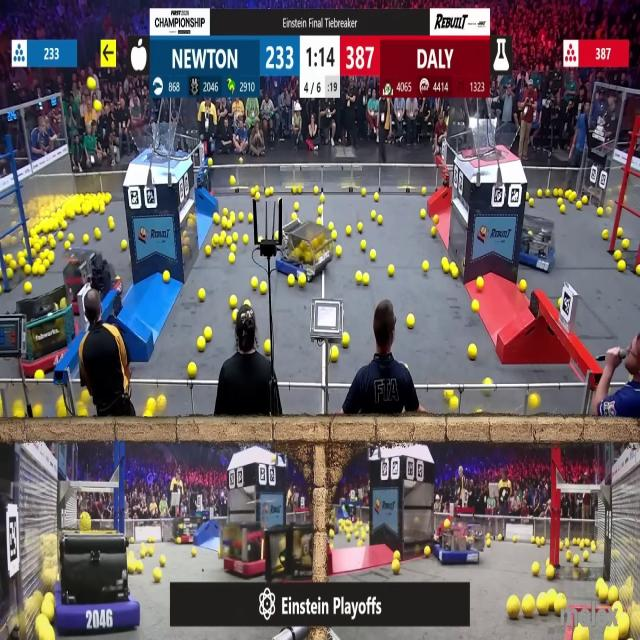ball_airborne: (80, 514, 90, 532), (89, 77, 97, 89), (95, 101, 102, 112)
ball_ground: (508, 596, 522, 619), (523, 597, 535, 619), (554, 596, 566, 614), (536, 598, 548, 616), (596, 582, 605, 602), (574, 628, 587, 640), (608, 588, 618, 603), (529, 394, 539, 408), (33, 406, 42, 420), (187, 362, 196, 376), (330, 347, 338, 362), (468, 345, 476, 360), (408, 314, 416, 328), (342, 334, 350, 348), (545, 566, 553, 580), (59, 406, 67, 420), (158, 396, 167, 408), (265, 341, 273, 354), (392, 561, 400, 574), (153, 568, 161, 581), (25, 282, 33, 294), (297, 275, 305, 287), (146, 398, 154, 410), (451, 396, 458, 409), (13, 412, 23, 421), (164, 272, 171, 284), (231, 295, 238, 307), (199, 288, 206, 300), (388, 266, 395, 278), (199, 339, 206, 351), (532, 563, 539, 575), (259, 282, 266, 294), (205, 327, 212, 339), (475, 278, 482, 290), (78, 409, 87, 418), (622, 240, 630, 250), (36, 368, 44, 378), (445, 390, 453, 400), (362, 273, 368, 286), (619, 262, 626, 273), (424, 545, 431, 556), (213, 213, 220, 224), (212, 235, 219, 246), (569, 190, 576, 201), (252, 278, 258, 290), (520, 280, 526, 292), (356, 272, 362, 284), (288, 275, 294, 287), (369, 249, 375, 261), (452, 268, 458, 280), (161, 555, 167, 567), (137, 561, 143, 573), (82, 234, 89, 244), (444, 264, 451, 274), (95, 230, 102, 240), (227, 253, 234, 263), (108, 220, 115, 230), (105, 192, 112, 202), (185, 245, 192, 255), (82, 205, 89, 215), (47, 252, 53, 263), (41, 237, 47, 248), (243, 236, 250, 245), (616, 251, 623, 260), (316, 206, 323, 215), (472, 302, 478, 312), (120, 240, 126, 250), (422, 263, 428, 273), (602, 231, 608, 241), (6, 270, 12, 280), (233, 234, 239, 244), (26, 266, 32, 276), (206, 246, 212, 256), (40, 266, 46, 276), (32, 266, 38, 276), (219, 237, 225, 247), (572, 556, 578, 566), (148, 548, 154, 558), (225, 218, 231, 228), (140, 549, 146, 559), (596, 208, 603, 216), (145, 412, 153, 419), (233, 311, 238, 322), (394, 552, 400, 561), (378, 215, 384, 224), (68, 234, 74, 243), (49, 240, 55, 249), (293, 203, 299, 212), (430, 229, 436, 238), (231, 177, 237, 186), (566, 554, 572, 563), (224, 237, 230, 246), (23, 249, 29, 258), (4, 254, 10, 263), (32, 241, 38, 250), (360, 241, 365, 251), (347, 224, 352, 234), (370, 210, 375, 220), (239, 212, 244, 222), (585, 552, 590, 562), (232, 213, 237, 223), (618, 230, 624, 238), (248, 214, 254, 222), (560, 206, 566, 214), (536, 189, 542, 197), (575, 202, 581, 210), (59, 233, 65, 241), (18, 258, 24, 266), (357, 223, 363, 231), (422, 187, 428, 195), (328, 530, 334, 538), (62, 220, 68, 228), (557, 200, 563, 208), (9, 262, 15, 270), (331, 232, 336, 241), (421, 209, 426, 218), (432, 215, 437, 224), (101, 205, 106, 214), (31, 248, 36, 257), (222, 208, 227, 217), (338, 246, 342, 257), (485, 378, 491, 385), (372, 195, 378, 202), (316, 218, 322, 225), (554, 188, 560, 195), (250, 188, 256, 195), (17, 251, 23, 258), (636, 266, 640, 276), (65, 241, 70, 249), (529, 200, 534, 208), (291, 212, 296, 220), (191, 548, 195, 558), (232, 244, 237, 252), (314, 186, 319, 194), (544, 188, 549, 196), (487, 539, 492, 547), (358, 539, 363, 547), (0, 270, 4, 280), (320, 193, 324, 202), (148, 536, 154, 542), (36, 258, 42, 264), (584, 198, 589, 205), (176, 537, 181, 544), (267, 188, 272, 195), (257, 237, 262, 244), (525, 191, 530, 198), (328, 222, 332, 230), (0, 286, 4, 294), (208, 160, 212, 168), (275, 233, 279, 241), (255, 192, 259, 200), (560, 541, 564, 549), (347, 534, 352, 540), (355, 532, 360, 538), (474, 411, 480, 416), (498, 534, 502, 541), (361, 188, 365, 195), (131, 536, 135, 543), (545, 559, 549, 566), (531, 536, 535, 543), (514, 536, 518, 542)
goal: (464, 122, 521, 160), (130, 128, 188, 161)
robot_blue: (54, 528, 135, 631), (278, 224, 335, 279), (435, 515, 485, 565), (516, 217, 555, 273)
robot_red: (16, 295, 74, 376), (264, 526, 314, 589), (220, 521, 267, 577), (170, 518, 207, 544)
